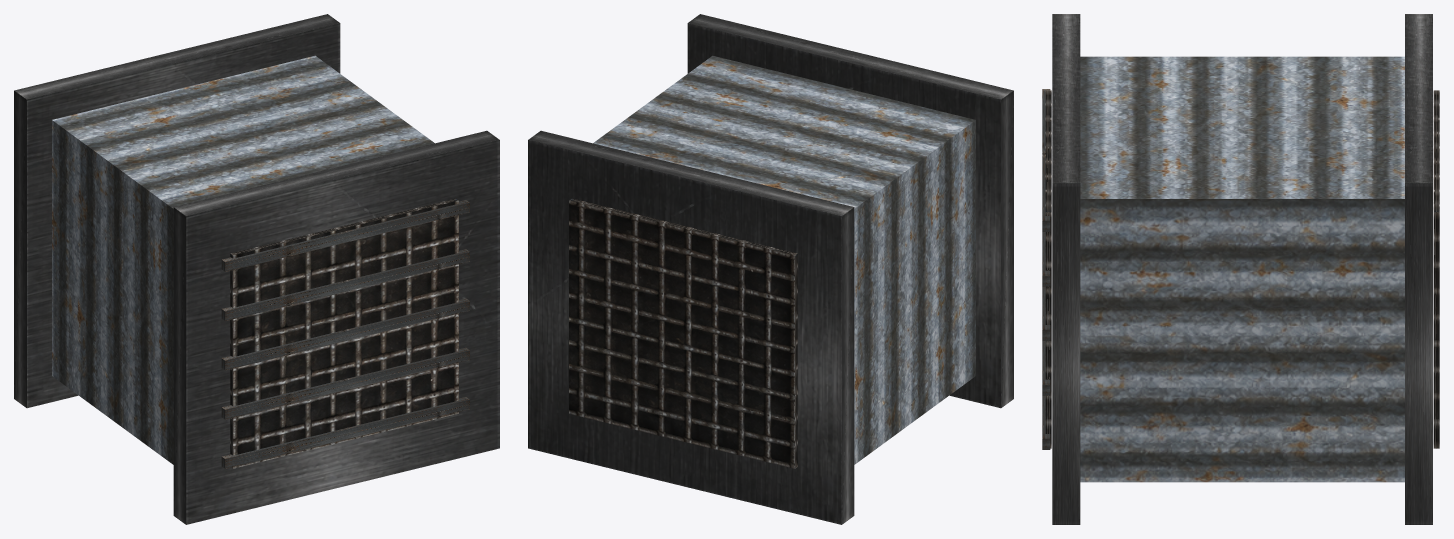
File: vent-duct.obj
The picture shows the model from 3 angles, left to right: view 1: azimuth 30°, elevation 25°; view 2: azimuth 150°, elevation 25°; view 3: azimuth 270°, elevation 25°; orthographic projection. The views are drawn at different scales.
Visible parts, largest first — view 1: vent-duct; view 2: vent-duct; view 3: vent-duct.
Boxes of the visible parts, <box> form: vent-duct: <box>14,14,499,524</box>; vent-duct: <box>528,14,1013,524</box>; vent-duct: <box>1042,14,1439,524</box>.
Bounding box in the file's own units: 1 × 0.94 × 0.9915.
Materials: 2 (2 with a texture image).
